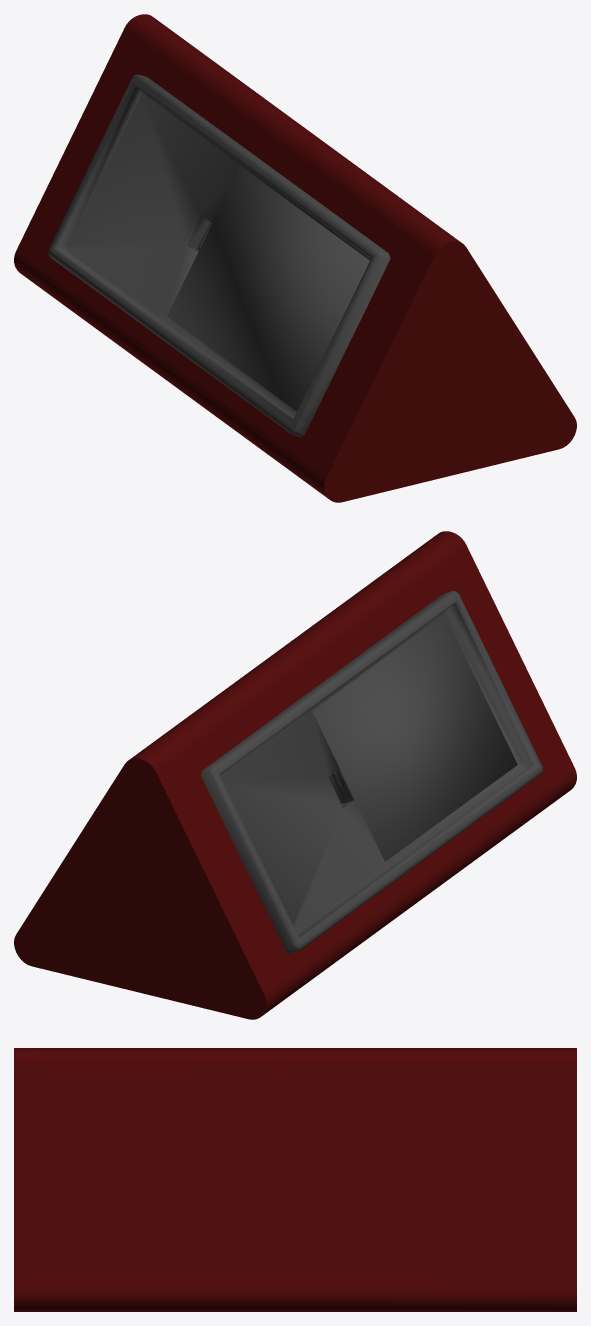
File: uploads_files_637830_Alarm+Clock.fbx
The picture shows the model from 3 angles, top to bottom: view 1: azimuth 30°, elevation 25°; view 2: azimuth 150°, elevation 25°; view 3: azimuth 270°, elevation 25°; orthographic projection. The views are drawn at different scales.
Visible parts, largest first — view 1: Alarm_Clock_Dark, Back_1; view 2: Alarm_Clock_Dark, Back_1; view 3: Alarm_Clock_Dark.
Boxes of the visible parts, bbox=[...] form: Alarm_Clock_Dark: bbox=[14, 14, 576, 502]; Back_1: bbox=[48, 74, 390, 436]; Alarm_Clock_Dark: bbox=[14, 531, 576, 1019]; Back_1: bbox=[201, 591, 542, 953]; Alarm_Clock_Dark: bbox=[14, 1048, 576, 1311].
Bounding box in the file's own units: 7.05 × 6.24 × 15.
